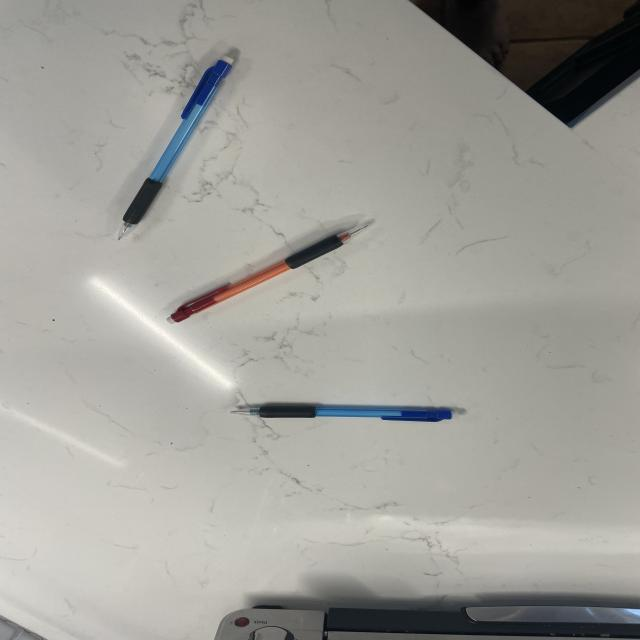mechanical-pencils: (112, 52, 241, 243), (175, 223, 373, 326), (234, 411, 461, 424)
